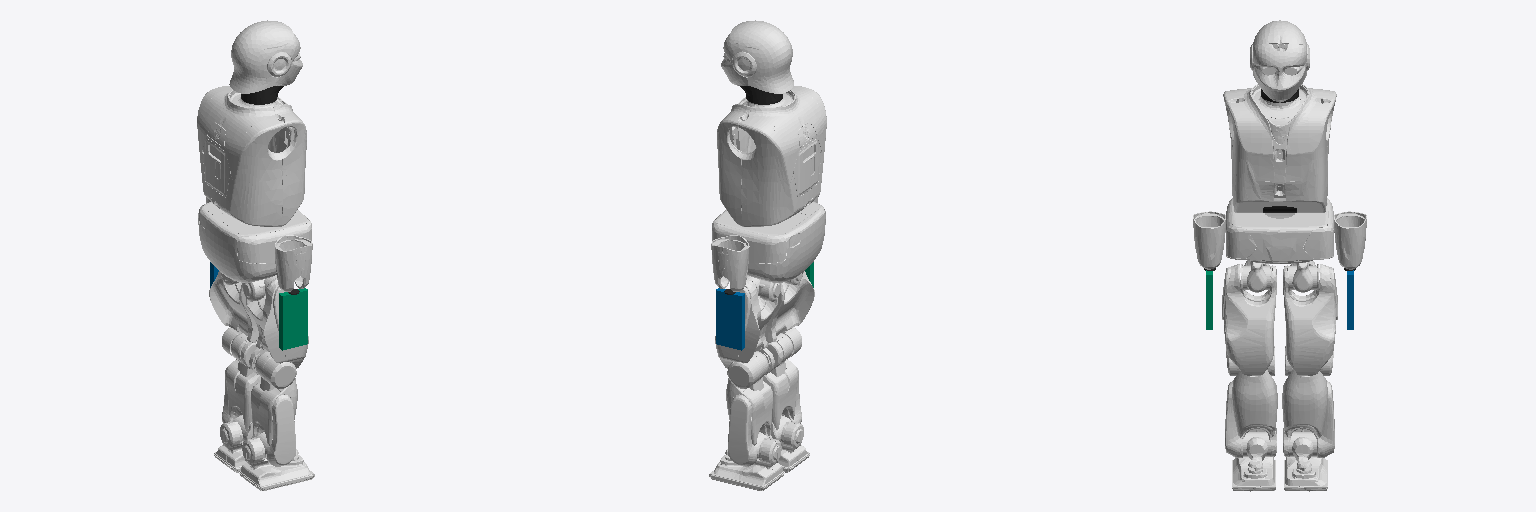
--- Facts derived from the render (not from the file) ---
Views: 3 orthographic renders of the robot side by side, from view 1: azimuth 30°, elevation 25°; view 2: azimuth 150°, elevation 25°; view 3: azimuth 270°, elevation 25°.
Model reemc with 54 links and 53 joints (30 revolute, 22 fixed, 1 floating), rooted at world, posed every joint at zero.
Links seen in each view (by area): view 1: torso_2_link, base_link, head_2_link, leg_right_4_link, leg_right_3_link, leg_left_3_link, leg_right_6_link, leg_left_4_link, arm_right_5_link, hand_right_palm_link, leg_left_6_link; view 2: torso_2_link, base_link, head_2_link, leg_left_4_link, leg_left_3_link, leg_right_3_link, leg_left_6_link, leg_right_4_link, arm_left_5_link, hand_left_palm_link, leg_right_6_link; view 3: torso_2_link, base_link, leg_right_3_link, leg_left_3_link, head_2_link, leg_right_4_link, leg_left_4_link, leg_right_6_link, leg_left_6_link, arm_right_5_link, arm_left_5_link, leg_left_1_link (+1 smaller).
Boxes of the visible links, x1,y1,x2,y2 form: torso_2_link: (197, 86, 306, 226); base_link: (198, 202, 311, 282); head_2_link: (229, 20, 302, 93); leg_right_4_link: (251, 351, 297, 466); leg_right_3_link: (246, 278, 308, 388); leg_left_3_link: (209, 263, 261, 368); leg_right_6_link: (239, 438, 314, 490); leg_left_4_link: (222, 333, 260, 439); arm_right_5_link: (274, 235, 312, 291); hand_right_palm_link: (279, 288, 307, 350); leg_left_6_link: (214, 422, 246, 472); torso_2_link: (717, 86, 826, 226); base_link: (712, 202, 825, 282); head_2_link: (721, 20, 793, 93); leg_left_4_link: (726, 351, 772, 466); leg_left_3_link: (715, 278, 777, 388); leg_right_3_link: (762, 271, 814, 368); leg_left_6_link: (709, 438, 784, 490); leg_right_4_link: (763, 333, 801, 439); arm_left_5_link: (711, 235, 749, 291); hand_left_palm_link: (716, 288, 744, 350); leg_right_6_link: (778, 422, 809, 472); torso_2_link: (1223, 84, 1336, 212); base_link: (1226, 198, 1333, 263); leg_right_3_link: (1222, 264, 1276, 375); leg_left_3_link: (1283, 264, 1337, 375); head_2_link: (1250, 20, 1309, 102); leg_right_4_link: (1225, 370, 1277, 457); leg_left_4_link: (1282, 370, 1334, 457); leg_right_6_link: (1232, 429, 1275, 491); leg_left_6_link: (1284, 429, 1327, 491); arm_right_5_link: (1193, 211, 1225, 269); arm_left_5_link: (1334, 211, 1366, 269); leg_left_1_link: (1290, 261, 1315, 292).
Bounding box of the posed robot: 0.3366 × 0.5684 × 1.64 m (x, y, z).
14 mesh visuals loaded from 14 distinct referenced files (9 Collada DAE); not drawn: 10 (reference not matched to a file when rendering).

robot.urdf — reemc:
<?xml version="1.0" ?>
<!-- =================================================================================== -->
<!-- |    This document was autogenerated by xacro from [local-path]/advr-superbuild/robots/reemc_robot/tutorial_iros2018/robots/reemc/robots/reemc.urdf.xacro | -->
<!-- |    EDITING THIS FILE BY HAND IS NOT RECOMMENDED                                 | -->
<!-- =================================================================================== -->
<!--

  Copyright (c) 2014, PAL Robotics, S.L.
  All rights reserved.

  This work is licensed under the Creative Commons Attribution-NonCommercial-NoDerivs 3.0 Unported License.
  To view a copy of this license, visit http://creativecommons.org/licenses/by-nc-nd/3.0/ or send a letter to
  Creative Commons, 444 Castro Street, Suite 900, Mountain View, California, 94041, USA.
-->
<robot name="reemc" xmlns:controller="http://playerstage.sourceforge.net/gazebo/xmlschema/#controller" xmlns:interface="http://playerstage.sourceforge.net/gazebo/xmlschema/#interface" xmlns:sensor="http://playerstage.sourceforge.net/gazebo/xmlschema/#sensor" xmlns:xacro="http://www.ros.org/wiki/xacro">
  <link name="base_link">
    <inertial>
      <mass value="12.3221"/>
      <origin rpy="0 0 0" xyz="-0.01209 -0.00442 0.02145"/>
      <inertia ixx="0.03408839175" ixy="0.00000898087" ixz="0.00238269732" iyy="0.03351929137" iyz="0.00049460232" izz="0.04506059363"/>
    </inertial>
    <visual>
      <origin rpy="0 0 0" xyz="0 0 0"/>
      <geometry>
        <mesh filename="package://tutorial_iros2018/robots/reemc/meshes/base/base.dae"/>
      </geometry>
      <material name="LightGrey"/>
    </visual>
    <collision>
      <origin rpy="0 0 0" xyz="-0.022 0 0.01"/>
      <geometry>
        <box size="0.3 0.35 0.14"/>
      </geometry>
    </collision>
  </link>

  <link name="world"/>
  <joint name="reference" type="floating">
    <parent link="world"/>
    <child link="base_link"/>
  </joint>

  <!-- TODO: Update dynamic models -->
  <!-- TODO: Update dynamic models -->
  <gazebo reference="imu_link">
    <!-- this is expected to be reparented to pelvis with appropriate offset
         when imu_link is reduced by fixed joint reduction -->
    <!-- todo: this is working with gazebo 1.4, need to write a unit test -->
    <sensor name="imu_sensor" type="imu">
      <always_on>1</always_on>
      <update_rate>1000.0</update_rate>
      <imu>
        <noise>
          <type>gaussian</type>
          <!-- Noise parameters from Boston Dynamics
               (http://gazebosim.org/wiki/Sensor_noise):
                 rates (rad/s): mean=0, stddev=2e-4
                 accels (m/s/s): mean=0, stddev=1.7e-2
                 rate bias (rad/s): 5e-6 - 1e-5
                 accel bias (m/s/s): 1e-1
               Experimentally, simulation provide rates with noise of
               about 1e-3 rad/s and accels with noise of about 1e-1 m/s/s.
               So we don't expect to see the noise unless number of inner iterations
               are increased.

               We will add bias.  In this model, bias is sampled once for rates
               and once for accels at startup; the sign (negative or positive)
               of each bias is then switched with equal probability.  Thereafter,
               the biases are fixed additive offsets.  We choose
               bias means and stddevs to produce biases close to the provided
               data. -->
          <rate>
            <mean>0.0</mean>
            <stddev>2e-4</stddev>
            <bias_mean>0.0000075</bias_mean>
            <bias_stddev>0.0000008</bias_stddev>
          </rate>
          <accel>
            <mean>0.0</mean>
            <stddev>1.7e-2</stddev>
            <bias_mean>0.1</bias_mean>
            <bias_stddev>0.001</bias_stddev>
          </accel>
        </noise>
      </imu>
    </sensor>
  </gazebo>
  <gazebo reference="r_foot">
    <mu1>0.9</mu1>
    <mu2>0.9</mu2>
    <fdir1>1 0 0</fdir1>
    <maxVel>1.0</maxVel>
    <minDepth>0.003</minDepth>
  </gazebo>
  <gazebo reference="l_foot">
    <mu1>0.9</mu1>
    <mu2>0.9</mu2>
    <fdir1>1 0 0</fdir1>
    <maxVel>1.0</maxVel>
    <minDepth>0.003</minDepth>
  </gazebo>
  <material name="Blue">
    <color rgba="0.0 0.0 0.8 1.0"/>
  </material>
  <material name="Green">
    <color rgba="0.0 0.8 0.0 1.0"/>
  </material>
  <material name="Grey">
    <color rgba="0.7 0.7 0.7 1.0"/>
  </material>
  <material name="LightGrey">
    <color rgba="0.9 0.9 0.9 1.0"/>
  </material>
  <material name="DarkGrey">
    <color rgba="0.2 0.2 0.2 1.0"/>
  </material>
  <material name="Red">
    <color rgba="0.8 0.0 0.0 1.0"/>
  </material>
  <material name="White">
    <color rgba="1.0 1.0 1.0 1.0"/>
  </material>
  <!-- Now we can start using the macros included above to define the actual robot -->
  <!-- The reflect parameter takes the value 1 or -1 to respectively distinguish right from left side in expressions -->
  <link name="leg_right_1_link">
    <inertial>
      <mass value="1.02901"/>
      <origin rpy="0 0 0" xyz="-0.02571 0 0.02557"/>
      <inertia ixx="0.00132187534" ixy="0.00000001514" ixz="0.00040022268" iyy="0.0018528617" iyz="0.00000050713" izz="0.00084231334"/>
    </inertial>
    <visual>
      <origin rpy="0 0 0" xyz="0 0 0"/>
      <geometry>
        <mesh filename="package://tutorial_iros2018/robots/reemc/meshes/leg/leg_1.dae" scale="1 1 1"/>
      </geometry>
      <material name="LightGrey"/>
    </visual>
  </link>
  <joint name="leg_right_1_joint" type="revolute">
    <origin rpy="0 0 0" xyz="0  -0.075 -0.14353"/>
    <axis xyz="0 0 1"/>
    <parent link="base_link"/>
    <child link="leg_right_1_link"/>
    <dynamics damping="1.0" friction="1.0"/>
    <limit effort="42.7" lower="-0.523598775598" upper="0.785398163397" velocity="2.35"/>
    <safety_controller k_position="100" k_velocity="100" soft_lower_limit="-0.523598775598" soft_upper_limit="0.785398163397"/>
  </joint>
  <link name="leg_right_2_link">
    <inertial>
      <mass value="0.69621"/>
      <origin rpy="0.0 0.0 0.0" xyz="0.00057 -0.00881 -0.01125"/>
      <inertia ixx="0.0008416476" ixy="-0.00000268743" ixz="0.00000667199" iyy="0.00039794844" iyz="0.00002668971" izz="0.00084196694"/>
    </inertial>
    <visual>
      <origin rpy="1.57079632679 0 0" xyz="0 0 0"/>
      <geometry>
        <cylinder length="0.10" radius="0.04"/>
      </geometry>
      <material name="LightGrey"/>
    </visual>
  </link>
  <joint name="leg_right_2_joint" type="revolute">
    <origin rpy="0 1.57079632679 0" xyz="0 0 0.0"/>
    <axis xyz="0 0 1"/>
    <parent link="leg_right_1_link"/>
    <child link="leg_right_2_link"/>
    <dynamics damping="1.0" friction="1.0"/>
    <limit effort="64.0" lower="-0.523598775598" upper="0.261799387799" velocity="2.27"/>
    <safety_controller k_position="100" k_velocity="100" soft_lower_limit="-0.523598775598" soft_upper_limit="0.261799387799"/>
  </joint>
  <link name="leg_right_3_link">
    <inertial>
      <mass value="3.97852"/>
      <origin rpy="0.0 0 0.0" xyz="0.14784 -0.01646 -0.01793"/>
      <inertia ixx="0.00507885174" ixy="-0.00034076421" ixz="-0.00225952731" iyy="0.02850097402" iyz="0.00003047874" izz="0.02632392239"/>
    </inertial>
    <visual>
      <origin rpy="0 0 0" xyz="0 0 0"/>
      <geometry>
        <mesh filename="package://tutorial_iros2018/robots/reemc/meshes/leg/leg_3.dae" scale="1 1 -1.0"/>
      </geometry>
      <material name="LightGrey"/>
    </visual>
    <collision>
      <origin rpy="0 1.57079632679 0" xyz="0.15 0 -0.015"/>
      <geometry>
        <box size="0.15 0.10 0.20"/>
      </geometry>
    </collision>
  </link>
  <joint name="leg_right_3_joint" type="revolute">
    <origin rpy="-1.57079632679 0 0" xyz="0 0 0.0"/>
    <axis xyz="0 0 1"/>
    <parent link="leg_right_2_link"/>
    <child link="leg_right_3_link"/>
    <dynamics damping="1.0" friction="1.0"/>
    <limit effort="55.7" lower="-1.74532925199" upper="0.785398163397" velocity="3.64"/>
    <safety_controller k_position="100" k_velocity="100" soft_lower_limit="-1.74532925199" soft_upper_limit="0.785398163397"/>
  </joint>
  <link name="leg_right_4_link">
    <inertial>
      <mass value="2.86055"/>
      <origin rpy="0.0 0.0 0.0" xyz="0.14618 -0.0022 -0.02189"/>
      <inertia ixx="0.00361006492" ixy="0.00012218208" ixz="0.00160208242" iyy="0.02470649045" iyz="0.00008129755" izz="0.02272322206"/>
    </inertial>
    <visual>
      <origin rpy="0 0 0" xyz="0 0 0"/>
      <geometry>
        <mesh filename="package://tutorial_iros2018/robots/reemc/meshes/leg/leg_4.dae" scale="1 1 -1.0"/>
      </geometry>
      <material name="LightGrey"/>
    </visual>
    <collision>
      <origin rpy="0 -1.57079632679 0" xyz="0.15 0 -0.015"/>
      <geometry>
        <box size="0.15 0.10 0.20"/>
      </geometry>
    </collision>
  </link>
  <joint name="leg_right_4_joint" type="revolute">
    <origin rpy="0 0 0" xyz="0.300 0 0.0"/>
    <axis xyz="0 0 1"/>
    <parent link="leg_right_3_link"/>
    <child link="leg_right_4_link"/>
    <dynamics damping="0.1" friction="0"/>
    <dynamics damping="1.0" friction="1.0"/>
    <limit effort="138.3" lower="0.0" upper="2.61799387799" velocity="3.225"/>
    <safety_controller k_position="100" k_velocity="100" soft_lower_limit="0.0" soft_upper_limit="2.61799387799"/>
  </joint>
  <link name="leg_right_5_link">
    <inertial>
      <mass value="0.68213"/>
      <origin rpy="0.0 0.0 0.0" xyz="-0.00028 0.01119 -0.00859"/>
      <inertia ixx="0.00082035023" ixy="0.00000048534" ixz="0.00000226301" iyy="0.00082074105" iyz="-0.00002892247" izz="0.00037614067"/>
    </inertial>
    <visual>
      <origin rpy="0 0 0" xyz="0 0 0"/>
      <geometry>
        <cylinder length="0.104" radius="0.04"/>
      </geometry>
      <material name="LightGrey"/>
    </visual>
  </link>
  <joint name="leg_right_5_joint" type="revolute">
    <origin rpy="0 0 0" xyz="0.30 0 0.0"/>
    <axis xyz="0 0 1"/>
    <parent link="leg_right_4_link"/>
    <child link="leg_right_5_link"/>
    <dynamics damping="1.0" friction="1.0"/>
    <limit effort="80.9" lower="-1.308996939" upper="0.785398163397" velocity="2.44"/>
    <safety_controller k_position="100" k_velocity="100" soft_lower_limit="-1.308996939" soft_upper_limit="0.785398163397"/>
  </joint>
  <link name="leg_right_6_link">
    <inertial>
      <mass value="2.00843"/>
      <origin rpy="0.0 0.0 0.0" xyz="0.06111 -0.00336 -0.00497"/>
      <inertia ixx="0.00366502559" ixy="0.00020479295" ixz="0.00112439297" iyy="0.00532618026" iyz="0.00012133755" izz="0.00353091463"/>
    </inertial>
    <visual>
      <origin rpy="0 0 0" xyz="0 0 0"/>
      <geometry>
        <mesh filename="package://tutorial_iros2018/robots/reemc/meshes/leg/leg_6.dae" scale="1 -1.0 1"/>
      </geometry>
      <material name="LightGrey"/>
    </visual>
    <collision>
      <origin rpy="0 0 0" xyz="0.1 -0.01 0.025 "/>
      <geometry>
        <box size="0.03 0.14 0.210"/>
      </geometry>
    </collision>
  </link>
  <joint name="leg_right_6_joint" type="revolute">
    <origin rpy="1.57079632679 0 0" xyz="0 0 0"/>
    <axis xyz="0 0 1"/>
    <parent link="leg_right_5_link"/>
    <child link="leg_right_6_link"/>
    <dynamics damping="1.0" friction="1.0"/>
    <limit effort="64.0" lower="-0.261799387799" upper="0.523598775598" velocity="2.27"/>
    <safety_controller k_position="100" k_velocity="100" soft_lower_limit="-0.261799387799" soft_upper_limit="0.523598775598"/>
  </joint>
  <link name="right_sole_link">
    <inertial>
      <mass value="0.001"/>
      <origin rpy="0 0 0" xyz="0 0 0"/>
      <inertia ixx="0.0" ixy="0.0" ixz="0.0" iyy="0.0" iyz="0.0" izz="0.0"/>
    </inertial>
  </link>
  <joint name="right_sole_joint" type="fixed">
    <!-- origin x taken from link_${side}_6_link/visual/origin/x above -->
    <origin rpy="0.0 -1.57079632679 0.0" xyz="0.117 0.0 0.0"/>
    <axis xyz="0 0 1"/>
    <parent link="leg_right_6_link"/>
    <child link="right_sole_link"/>
    <dynamics damping="1.0" friction="1.0"/>
    <limit effort="60" lower="0.0" upper="0.0" velocity="0"/>
  </joint>
  <gazebo reference="leg_right_1_link">
    <mu1>0.9</mu1>
    <mu2>0.9</mu2>
  </gazebo>
  <gazebo reference="leg_right_2_link">
    <mu1>0.9</mu1>
    <mu2>0.9</mu2>
  </gazebo>
  <gazebo reference="leg_right_3_link">
    <mu1>0.9</mu1>
    <mu2>0.9</mu2>
  </gazebo>
  <gazebo reference="leg_right_4_link">
    <mu1>0.9</mu1>
    <mu2>0.9</mu2>
  </gazebo>
  <gazebo reference="leg_right_5_link">
    <mu1>0.9</mu1>
    <mu2>0.9</mu2>
  </gazebo>
  <!-- contact model for foot surface -->
  <gazebo reference="leg_right_6_link">
    <kp>1000000.0</kp>
    <kd>100.0</kd>
    <mu1>1.0</mu1>
    <mu2>1.0</mu2>
    <fdir1>0 0 1</fdir1>
    <maxVel>1.0</maxVel>
    <minDepth>0.00</minDepth>
    <implicitSpringDamper>1</implicitSpringDamper>
  </gazebo>
  <!--force torque sensor -->
  <!--xacro:reemc_force_torque_sensor name="leg_${side}_6_link"  update_rate="100.0"/-->
  <gazebo reference="leg_right_1_joint">
    <implicitSpringDamper>1</implicitSpringDamper>
  </gazebo>
  <gazebo reference="leg_right_2_joint">
    <implicitSpringDamper>1</implicitSpringDamper>
  </gazebo>
  <gazebo reference="leg_right_3_joint">
    <implicitSpringDamper>1</implicitSpringDamper>
  </gazebo>
  <gazebo reference="leg_right_4_joint">
    <implicitSpringDamper>1</implicitSpringDamper>
  </gazebo>
  <gazebo reference="leg_right_5_joint">
    <implicitSpringDamper>1</implicitSpringDamper>
  </gazebo>
  <gazebo reference="leg_right_6_joint">
    <implicitSpringDamper>1</implicitSpringDamper>
    <provideFeedback>1</provideFeedback>
  </gazebo>
  <link name="right_laser_link">
    <inertial>
      <origin rpy="0 0 0" xyz="0.0 0.0 0.0"/>
      <mass value="0.001"/>
      <inertia ixx="3.7174E-05" ixy="4.9927E-08" ixz="1.1015E-05" iyy="4.2412E-05" iyz="-9.8165E-09" izz="4.167E-05"/>
    </inertial>
    <!--    <visual>
         <origin xyz="0.0 0 0.05" rpy="0 0 ${90.0*deg_to_rad}" />
        <geometry>
          <mesh filename="package://tutorial_iros2018/robots/reemc/meshes/sensors/urg-04lx-ug01.stl" scale="0.001 0.001 0.001"/>
        </geometry>
      <material name="DarkGrey" />
      </visual>
  -->
  </link>
  <joint name="right_laser_joint" type="fixed">
    <axis xyz="0 1 0"/>
    <origin rpy="0.0 0.0 -0.523598775598" xyz="0.085 -0.01 0.073"/>
    <parent link="right_sole_link"/>
    <child link="right_laser_link"/>
    <dynamics damping="1" friction="1.0"/>
    <limit effort="60" lower="0" upper="0" velocity="20"/>
  </joint>
  <link name="leg_left_1_link">
    <inertial>
      <mass value="1.02901"/>
      <origin rpy="0 0 0" xyz="-0.02571 0 0.02557"/>
      <inertia ixx="0.00132187534" ixy="0.00000001514" ixz="0.00040022268" iyy="0.0018528617" iyz="0.00000050713" izz="0.00084231334"/>
    </inertial>
    <visual>
      <origin rpy="0 0 0" xyz="0 0 0"/>
      <geometry>
        <mesh filename="package://tutorial_iros2018/robots/reemc/meshes/leg/leg_1.dae" scale="1 1 1"/>
      </geometry>
      <material name="LightGrey"/>
    </visual>
  </link>
  <joint name="leg_left_1_joint" type="revolute">
    <origin rpy="0 0 0" xyz="0  0.075 -0.14353"/>
    <axis xyz="0 0 1"/>
    <parent link="base_link"/>
    <child link="leg_left_1_link"/>
    <dynamics damping="1.0" friction="1.0"/>
    <limit effort="42.7" lower="-0.785398163397" upper="0.523598775598" velocity="2.35"/>
    <safety_controller k_position="100" k_velocity="100" soft_lower_limit="-0.785398163397" soft_upper_limit="0.523598775598"/>
  </joint>
  <link name="leg_left_2_link">
    <inertial>
      <mass value="0.69621"/>
      <origin rpy="0.0 0.0 0.0" xyz="0.00057 0.00881 -0.01125"/>
      <inertia ixx="0.0008416476" ixy="-0.00000268743" ixz="0.00000667199" iyy="0.00039794844" iyz="0.00002668971" izz="0.00084196694"/>
    </inertial>
    <visual>
      <origin rpy="1.57079632679 0 0" xyz="0 0 0"/>
      <geometry>
        <cylinder length="0.10" radius="0.04"/>
      </geometry>
      <material name="LightGrey"/>
    </visual>
  </link>
  <joint name="leg_left_2_joint" type="revolute">
    <origin rpy="0 1.57079632679 0" xyz="0 0 0.0"/>
    <axis xyz="0 0 1"/>
    <parent link="leg_left_1_link"/>
    <child link="leg_left_2_link"/>
    <dynamics damping="1.0" friction="1.0"/>
    <limit effort="64.0" lower="-0.261799387799" upper="0.523598775598" velocity="2.27"/>
    <safety_controller k_position="100" k_velocity="100" soft_lower_limit="-0.261799387799" soft_upper_limit="0.523598775598"/>
  </joint>
  <link name="leg_left_3_link">
    <inertial>
      <mass value="3.97852"/>
      <origin rpy="0.0 0 0.0" xyz="0.14784 -0.01646 0.01793"/>
      <inertia ixx="0.00507885174" ixy="-0.00034076421" ixz="-0.00225952731" iyy="0.02850097402" iyz="0.00003047874" izz="0.02632392239"/>
    </inertial>
    <visual>
      <origin rpy="0 0 0" xyz="0 0 0"/>
      <geometry>
        <mesh filename="package://tutorial_iros2018/robots/reemc/meshes/leg/leg_3.dae" scale="1 1 1.0"/>
      </geometry>
      <material name="LightGrey"/>
    </visual>
    <collision>
      <origin rpy="0 1.57079632679 0" xyz="0.15 0 0.015"/>
      <geometry>
        <box size="0.15 0.10 0.20"/>
      </geometry>
    </collision>
  </link>
  <joint name="leg_left_3_joint" type="revolute">
    <origin rpy="-1.57079632679 0 0" xyz="0 0 0.0"/>
    <axis xyz="0 0 1"/>
    <parent link="leg_left_2_link"/>
    <child link="leg_left_3_link"/>
    <dynamics damping="1.0" friction="1.0"/>
    <limit effort="55.7" lower="-1.74532925199" upper="0.785398163397" velocity="3.64"/>
    <safety_controller k_position="100" k_velocity="100" soft_lower_limit="-1.74532925199" soft_upper_limit="0.785398163397"/>
  </joint>
  <link name="leg_left_4_link">
    <inertial>
      <mass value="2.86055"/>
      <origin rpy="0.0 0.0 0.0" xyz="0.14618 -0.0022 0.02189"/>
      <inertia ixx="0.00361006492" ixy="0.00012218208" ixz="0.00160208242" iyy="0.02470649045" iyz="0.00008129755" izz="0.02272322206"/>
    </inertial>
    <visual>
      <origin rpy="0 0 0" xyz="0 0 0"/>
      <geometry>
        <mesh filename="package://tutorial_iros2018/robots/reemc/meshes/leg/leg_4.dae" scale="1 1 1.0"/>
      </geometry>
      <material name="LightGrey"/>
    </visual>
    <collision>
      <origin rpy="0 1.57079632679 0" xyz="0.15 0 0.015"/>
      <geometry>
        <box size="0.15 0.10 0.20"/>
      </geometry>
    </collision>
  </link>
  <joint name="leg_left_4_joint" type="revolute">
    <origin rpy="0 0 0" xyz="0.300 0 0.0"/>
    <axis xyz="0 0 1"/>
    <parent link="leg_left_3_link"/>
    <child link="leg_left_4_link"/>
    <dynamics damping="0.1" friction="0"/>
    <dynamics damping="1.0" friction="1.0"/>
    <limit effort="138.3" lower="0.0" upper="2.61799387799" velocity="3.225"/>
    <safety_controller k_position="100" k_velocity="100" soft_lower_limit="0.0" soft_upper_limit="2.61799387799"/>
  </joint>
  <link name="leg_left_5_link">
    <inertial>
      <mass value="0.68213"/>
      <origin rpy="0.0 0.0 0.0" xyz="-0.00028 0.01119 0.00859"/>
      <inertia ixx="0.00082035023" ixy="0.00000048534" ixz="0.00000226301" iyy="0.00082074105" iyz="-0.00002892247" izz="0.00037614067"/>
    </inertial>
    <visual>
      <origin rpy="0 0 0" xyz="0 0 0"/>
      <geometry>
        <cylinder length="0.104" radius="0.04"/>
      </geometry>
      <material name="LightGrey"/>
    </visual>
  </link>
  <joint name="leg_left_5_joint" type="revolute">
    <origin rpy="0 0 0" xyz="0.30 0 0.0"/>
    <axis xyz="0 0 1"/>
    <parent link="leg_left_4_link"/>
    <child link="leg_left_5_link"/>
    <dynamics damping="1.0" friction="1.0"/>
    <limit effort="80.9" lower="-1.308996939" upper="0.785398163397" velocity="2.44"/>
    <safety_controller k_position="100" k_velocity="100" soft_lower_limit="-1.308996939" soft_upper_limit="0.785398163397"/>
  </joint>
  <link name="leg_left_6_link">
    <inertial>
      <mass value="2.00843"/>
      <origin rpy="0.0 0.0 0.0" xyz="0.06111 0.00336 -0.00497"/>
      <inertia ixx="0.00366502559" ixy="0.00020479295" ixz="0.00112439297" iyy="0.00532618026" iyz="0.00012133755" izz="0.00353091463"/>
    </inertial>
    <visual>
      <origin rpy="0 0 0" xyz="0 0 0"/>
      <geometry>
        <mesh filename="package://tutorial_iros2018/robots/reemc/meshes/leg/leg_6.dae" scale="1 1.0 1"/>
      </geometry>
      <material name="LightGrey"/>
    </visual>
    <collision>
      <origin rpy="0 0 0" xyz="0.1 0.01 0.025 "/>
      <geometry>
        <box size="0.03 0.14 0.210"/>
      </geometry>
    </collision>
  </link>
  <joint name="leg_left_6_joint" type="revolute">
    <origin rpy="1.57079632679 0 0" xyz="0 0 0"/>
    <axis xyz="0 0 1"/>
    <parent link="leg_left_5_link"/>
    <child link="leg_left_6_link"/>
    <dynamics damping="1.0" friction="1.0"/>
    <limit effort="64.0" lower="-0.523598775598" upper="0.261799387799" velocity="2.27"/>
    <safety_controller k_position="100" k_velocity="100" soft_lower_limit="-0.523598775598" soft_upper_limit="0.261799387799"/>
  </joint>
  <link name="left_sole_link">
    <inertial>
      <mass value="0.001"/>
      <origin rpy="0 0 0" xyz="0 0 0"/>
      <inertia ixx="0.0" ixy="0.0" ixz="0.0" iyy="0.0" iyz="0.0" izz="0.0"/>
    </inertial>
  </link>
  <joint name="left_sole_joint" type="fixed">
    <!-- origin x taken from link_${side}_6_link/visual/origin/x above -->
    <origin rpy="0.0 -1.57079632679 0.0" xyz="0.117 0.0 0.0"/>
    <axis xyz="0 0 1"/>
    <parent link="leg_left_6_link"/>
    <child link="left_sole_link"/>
    <dynamics damping="1.0" friction="1.0"/>
    <limit effort="60" lower="0.0" upper="0.0" velocity="0"/>
  </joint>
  <gazebo reference="leg_left_1_link">
    <mu1>0.9</mu1>
    <mu2>0.9</mu2>
  </gazebo>
  <gazebo reference="leg_left_2_link">
    <mu1>0.9</mu1>
    <mu2>0.9</mu2>
  </gazebo>
  <gazebo reference="leg_left_3_link">
    <mu1>0.9</mu1>
    <mu2>0.9</mu2>
  </gazebo>
  <gazebo reference="leg_left_4_link">
    <mu1>0.9</mu1>
    <mu2>0.9</mu2>
  </gazebo>
  <gazebo reference="leg_left_5_link">
    <mu1>0.9</mu1>
    <mu2>0.9</mu2>
  </gazebo>
  <!-- contact model for foot surface -->
  <gazebo reference="leg_left_6_link">
    <kp>1000000.0</kp>
    <kd>100.0</kd>
    <mu1>1.0</mu1>
    <mu2>1.0</mu2>
    <fdir1>0 0 1</fdir1>
    <maxVel>1.0</maxVel>
    <minDepth>0.00</minDepth>
    <implicitSpringDamper>1</implicitSpringDamper>
  </gazebo>
  <!--force torque sensor -->
  <!--xacro:reemc_force_torque_sensor name="leg_${side}_6_link"  update_rate="100.0"/-->
  <gazebo reference="leg_left_1_joint">
    <implicitSpringDamper>1</implicitSpringDamper>
  </gazebo>
  <gazebo reference="leg_left_2_joint">
    <implicitSpringDamper>1</implicitSpringDamper>
  </gazebo>
  <gazebo reference="leg_left_3_joint">
    <implicitSpringDamper>1</implicitSpringDamper>
  </gazebo>
  <gazebo reference="leg_left_4_joint">
    <implicitSpringDamper>1</implicitSpringDamper>
  </gazebo>
  <gazebo reference="leg_left_5_joint">
    <implicitSpringDamper>1</implicitSpringDamper>
  </gazebo>
  <gazebo reference="leg_left_6_joint">
    <implicitSpringDamper>1</implicitSpringDamper>
    <provideFeedback>1</provideFeedback>
  </gazebo>
  <link name="left_laser_link">
    <inertial>
      <origin rpy="0 0 0" xyz="0.0 0.0 0.0"/>
      <mass value="0.001"/>
      <inertia ixx="3.7174E-05" ixy="4.9927E-08" ixz="1.1015E-05" iyy="4.2412E-05" iyz="-9.8165E-09" izz="4.167E-05"/>
    </inertial>
    <!--    <visual>
         <origin xyz="0.0 0 0.05" rpy="0 0 ${90.0*deg_to_rad}" />
        <geometry>
          <mesh filename="package://tutorial_iros2018/robots/reemc/meshes/sensors/urg-04lx-ug01.stl" scale="0.001 0.001 0.001"/>
        </geometry>
      <material name="DarkGrey" />
      </visual>
  -->
  </link>
  <joint name="left_laser_joint" type="fixed">
    <axis xyz="0 1 0"/>
    <origin rpy="0.0 0.0 0.523598775598" xyz="0.085 0.01 0.073"/>
    <parent link="left_sole_link"/>
    <child link="left_laser_link"/>
    <dynamics damping="1" friction="1.0"/>
    <limit effort="60" lower="0" upper="0" velocity="20"/>
  </joint>
  <!--************************-->
  <!--        TORSO_1         -->
  <!--************************-->
  <link name="torso_1_link">
    <inertial>
      <origin rpy="0 0 0" xyz="-0.00011 -0.00002 -0.00669"/>
      <mass value="1.58341"/>
      <!-- NOTE: Assuming cylinder with length="0.295" radius="0.0465-->
      <inertia ixx="0.0036591855" ixy="0.00000036753" ixz="0.00000297759" iyy="0.00115955355" iyz="0.00000024742" izz="0.00360440105"/>
    </inertial>
    <visual>
      <origin rpy="1.57079632679 0 0" xyz="0 0 0"/>
      <geometry>
        <cylinder length="0.15" radius="0.0465"/>
      </geometry>
      <material name="DarkGrey"/>
    </visual>
  </link>
  <joint name="torso_1_joint" type="revolute">
    <parent link="base_link"/>
    <child link="torso_1_link"/>
    <origin rpy="0 0 0" xyz="0 0 0.14353"/>
    <axis xyz="0 0 1"/>
    <limit effort="78.0" lower="-1.308996939" upper="1.308996939" velocity="5.4"/>
    <dynamics damping="1.0" friction="1.0"/>
    <safety_controller k_position="20" k_velocity="20" soft_lower_limit="-1.288996939" soft_upper_limit="1.288996939"/>
  </joint>
  <!--************************-->
  <!--        TORSO_2         -->
  <!--************************-->
  <link name="torso_2_link">
    <inertial>
      <origin rpy="0 0 0" xyz="-0.01816 -0.17956 -0.00103"/>
      <mass value="11.18103"/>
      <!-- NOTE: Assuming box with d=0.2, w=0.295, h=0.254 -->
      <inertia ixx="0.159836691" ixy="-0.00377573015" ixz="0.00094280162" iyy="0.08484637595" iyz="0.00020220508" izz="0.13253975464"/>
    </inertial>
    <visual>
      <origin rpy="0 0 0" xyz="0 0 0"/>
      <geometry>
        <mesh filename="package://tutorial_iros2018/robots/reemc/meshes/torso/torso_2.dae"/>
      </geometry>
      <material name="LightGrey"/>
    </visual>
    <collision>
      <origin rpy="0 0 0" xyz="0 0 0"/>
      <geometry>
        <mesh filename="package://tutorial_iros2018/robots/reemc/meshes/torso/torso_2_collision.stl"/>
      </geometry>
    </collision>
  </link>
  <joint name="torso_2_joint" type="revolute">
    <parent link="torso_1_link"/>
    <child link="torso_2_link"/>
    <origin rpy="-1.57079632679 0 0" xyz="0 0 0"/>
    <axis xyz="0 0 1"/>
    <limit effort="78.0" lower="-0.261799387799" upper="0.785398163397" velocity="5.4"/>
    <dynamics damping="1.0" friction="1.0"/>
    <safety_controller k_position="20" k_velocity="20" soft_lower_limit="-0.241799387799" soft_upper_limit="0.765398163397"/>
  </joint>
  <gazebo reference="torso_1_link">
    <mu1>0.9</mu1>
    <mu2>0.9</mu2>
  </gazebo>
  <gazebo reference="torso_2_link">
    <mu1>0.9</mu1>
    <mu2>0.9</mu2>
  </gazebo>
  <gazebo reference="torso_1_joint">
    <implicitSpringDamper>1</implicitSpringDamper>
  </gazebo>
  <gazebo reference="torso_2_joint">
    <implicitSpringDamper>1</implicitSpringDamper>
    <provideFeedback>1</provideFeedback>
  </gazebo>
  <link name="torso_sonar_01_link">
    <inertial>
      <mass value="0.001"/>
      <origin rpy="0 0 0" xyz="0 0 0"/>
      <inertia ixx="0.0001" ixy="0" ixz="0" iyy="0.000001" iyz="0" izz="0.0001"/>
    </inertial>
  </link>
  <joint name="torso_sonar_01_joint" type="fixed">
    <origin rpy="0.0 0.0 0.349065850399" xyz="0.10 -0.029 0"/>
    <axis xyz="0 0 1"/>
    <parent link="torso_2_link"/>
    <child link="torso_sonar_01_link"/>
  </joint>
  <link name="torso_sonar_02_link">
    <inertial>
      <mass value="0.001"/>
      <origin rpy="0 0 0" xyz="0 0 0"/>
      <inertia ixx="0.0001" ixy="0" ixz="0" iyy="0.000001" iyz="0" izz="0.0001"/>
    </inertial>
  </link>
  <joint name="torso_sonar_02_joint" type="fixed">
    <origin rpy="0.0 0.0 0.0" xyz="0.15 -0.18 0"/>
    <axis xyz="0 0 1"/>
    <parent link="torso_2_link"/>
    <child link="torso_sonar_02_link"/>
  </joint>
  <link name="torso_sonar_04_link">
    <inertial>
      <mass value="0.001"/>
      <origin rpy="0 0 0" xyz="0 0 0"/>
      <inertia ixx="0.0001" ixy="0" ixz="0" iyy="0.000001" iyz="0" izz="0.0001"/>
    </inertial>
  </link>
  <joint name="torso_sonar_04_joint" type="fixed">
    <origin rpy="0.0 3.14159265359 0.0" xyz="-0.17 -0.029 0.0"/>
    <axis xyz="0 0 1"/>
    <parent link="torso_2_link"/>
    <child link="torso_sonar_04_link"/>
  </joint>
  <link name="head_1_link">
    <inertial>
      <origin rpy="0 0 0" xyz="0.01819 0.00248 -0.00517"/>
      <mass value="1.11967"/>
      <!-- NOTE: Assuming cylinder with r=0.06, h=0.08 -->
      <!--         <inertia ixx="0.0014125"  ixy="0"  ixz="0" iyy="0.0014125" iyz="0" izz="0.0017738" /> -->
      <inertia ixx="0.00111370229" ixy="0.00003992198" ixz="-0.00012464155" iyy="0.00111361487" iyz="0.00001943162" izz="0.00114794061"/>
    </inertial>
    <visual>
      <origin rpy="0 0 0" xyz="-0.03 0 0"/>
      <!--TODO: Remove offset when good meshes arrive-->
      <geometry>
        <mesh filename="package://tutorial_iros2018/robots/reemc/meshes/head/head_1.dae"/>
      </geometry>
      <material name="DarkGrey"/>
    </visual>
    <collision>
      <origin rpy="0 0 0" xyz="-0.03 0 0"/>
      <geometry>
        <mesh filename="package://tutorial_iros2018/robots/reemc/meshes/head/head_1_collision.stl"/>
      </geometry>
    </collision>
  </link>
  <joint name="head_1_joint" type="revolute">
    <parent link="torso_2_link"/>
    <child link="head_1_link"/>
    <origin rpy="1.57079632679 0 0" xyz="0.0 -0.42316 0"/>
    <axis xyz="0 0 1"/>
    <limit effort="3.4" lower="-1.308996939" upper="1.308996939" velocity="3.0"/>
    <dynamics damping="0.5" friction="1.0"/>
    <safety_controller k_position="20" k_velocity="20" soft_lower_limit="-1.288996939" soft_upper_limit="1.288996939"/>
  </joint>
  <gazebo reference="head_1_link">
    <mu1>0.9</mu1>
    <mu2>0.9</mu2>
  </gazebo>
  <gazebo reference="head_1_joint">
    <implicitSpringDamper>1</implicitSpringDamper>
  </gazebo>
  <link name="head_2_link">
    <inertial>
      <origin rpy="0 0 0" xyz="0.01183 -0.08098 0.00104"/>
      <mass value="1.63134"/>
      <!-- NOTE: Assuming box with d=0.28433, w=0.20302, h=0.26741 -->
      <!--         <inertia ixx="0.011353"  ixy="0"  ixz="0" iyy="0.012294" iyz="0" izz="0.015345" /> -->
      <!--NOTE: Low (0.1 or lower) diagonal inertia values make Gazebo 1.0.2 simulation unstable when head sensors are added.-->
      <inertia ixx="0.00640199093" ixy="0.00012197067" ixz="-0.00000897011" iyy="0.00676228591" iyz="-0.0000552329" izz="0.00614192438"/>
    </inertial>
    <visual>
      <origin rpy="0 0 0" xyz="-0.03 0 0"/>
      <!--TODO: Remove offset when good meshes arrive-->
      <geometry>
        <mesh filename="package://tutorial_iros2018/robots/reemc/meshes/head/head_2.dae"/>
      </geometry>
      <material name="LightGrey"/>
    </visual>
    <collision>
      <origin rpy="0 0 0" xyz="-0.03 0 0"/>
      <geometry>
        <mesh filename="package://tutorial_iros2018/robots/reemc/meshes/head/head_2_collision.stl"/>
      </geometry>
    </collision>
  </link>
  <joint name="head_2_joint" type="revolute">
    <parent link="head_1_link"/>
    <child link="head_2_link"/>
    <origin rpy="-1.57079632679 0 0" xyz="0.0445 0 0"/>
    <axis xyz="0 0 1"/>
    <limit effort="3.26" lower="-0.261799387799" upper="0.785398163397" velocity="3.0"/>
    <dynamics damping="0.5" friction="1.0"/>
    <safety_controller k_position="20" k_velocity="20" soft_lower_limit="-0.241799387799" soft_upper_limit="0.785398163397"/>
  </joint>
  <gazebo reference="head_2_link">
    <mu1>0.9</mu1>
    <mu2>0.9</mu2>
  </gazebo>
  <gazebo reference="head_2_joint">
    <implicitSpringDamper>1</implicitSpringDamper>
  </gazebo>
  <link name="head_sonar_03_link">
    <inertial>
      <mass value="0.001"/>
      <origin rpy="0 0 0" xyz="0 0 0"/>
      <inertia ixx="0.0001" ixy="0" ixz="0" iyy="0.000001" iyz="0" izz="0.0001"/>
    </inertial>
  </link>
  <joint name="head_sonar_03_joint" type="fixed">
    <origin rpy="1.57 0.0 0.0" xyz="0.11 -0.195 0.0"/>
    <axis xyz="0 0 1"/>
    <parent link="head_2_link"/>
    <child link="head_sonar_03_link"/>
  </joint>
  <!--************************-->
  <!--        SHOULDER        -->
  <!--************************-->
  <link name="arm_right_1_link">
    <inertial>
      <origin rpy="0 0 0" xyz="0.00701 -0.00011 0.18627"/>
      <mass value="1.53614"/>
      <!--        <inertia ixx="0"  ixy="0"  ixz="0" iyy="0" iyz="0" izz="0" /> -->
      <!--         NOTE: Assuming cylinder centered at CoM with r=0.05, h=0.05 with axis parallel to x coordinate -->
      <!--        <inertia ixx="0.0026850"  ixy="0"  ixz="0" iyy="0.0017900" iyz="0" izz="0.0017900" /> -->
      <inertia ixx="0.00327313329" ixy="-0.00000460054" ixz="-0.00025121368" iyy="0.00316047802" iyz="0.00000313158" izz="0.00157642528"/>
    </inertial>
    <visual>
      <origin rpy="0 0 0" xyz="0 0 0"/>
      <geometry>
        <mesh filename="package://tutorial_iros2018/robots/reemc/meshes/arm/arm_1.dae" scale="1 1 -1.0"/>
      </geometry>
      <material name="DarkGrey"/>
    </visual>
    <collision>
      <origin rpy="0 0 0" xyz="0 0 0"/>
      <geometry>
        <mesh filename="package://tutorial_iros2018/robots/reemc/meshes/arm/arm_1_collision.stl" scale="1 1 -1.0"/>
      </geometry>
    </collision>
  </link>
  <joint name="arm_right_1_joint" type="revolute">
    <parent link="torso_2_link"/>
    <child link="arm_right_1_link"/>
    <origin rpy="-2.87979326579 0 0" xyz="0 -0.31827 0"/>
    <axis xyz="0 0 1"/>
    <limit effort="44.64" lower="-0.785398163397" upper="3.14159265359" velocity="2.7"/>
    <dynamics damping="1.0" friction="1.0"/>
    <safety_controller k_position="20" k_velocity="20" soft_lower_limit="-0.765398163397" soft_upper_limit="3.12159265359"/>
  </joint>
  <link name="arm_right_2_link">
    <inertial>
      <origin rpy="0 0 0" xyz="0.01435 -0.06294 0.01039"/>
      <mass value="1.60393"/>
      <!--<inertia ixx="0"  ixy="0"  ixz="0" iyy="0" iyz="0" izz="0" />-->
      <!-- NOTE: Assuming cylinder centered at CoM with r=0.05, h=0.05 with axis parallel to y coordinate -->
      <!-- <inertia ixx="0.0013417"  ixy="0"  ixz="0" iyy="0.0020125" iyz="0" izz="0.0013417" /> -->
      <inertia ixx="0.0046195621" ixy="-0.00056769245" ixz="0.00018376961" iyy="0.00185384237" iyz="-0.00078286958" izz="0.0049356022"/>
    </inertial>
    <visual>
      <origin rpy="0 0 0" xyz="0 0 0"/>
      <geometry>
        <mesh filename="package://tutorial_iros2018/robots/reemc/meshes/arm/arm_2.dae" scale="1 1 -1.0"/>
      </geometry>
      <material name="DarkGrey"/>
    </visual>
    <collision>
      <origin rpy="0 0 0" xyz="0 0 0"/>
      <geometry>
        <mesh filename="package://tutorial_iros2018/robots/reemc/meshes/arm/arm_2_collision.stl" scale="1 1 -1.0"/>
      </geometry>
    </collision>
  </link>
  <joint name="arm_right_2_joint" type="revolute">
    <parent link="arm_right_1_link"/>
    <child link="arm_right_2_link"/>
    <origin rpy="-1.57079632679 -1.308996939 1.57079632679" xyz="0 0 0.21749"/>
    <axis xyz="0 0 1"/>
    <limit effort="22.32" lower="-0.261799387799" upper="2.09439510239" velocity="3.66"/>
    <dynamics damping="1.0" friction="1.0"/>
    <safety_controller k_position="20" k_velocity="20" soft_lower_limit="-0.241799387799" soft_upper_limit="2.07439510239"/>
  </joint>
  <link name="arm_right_3_link">
    <inertial>
      <origin rpy="0 0 0" xyz="0.00606 -0.0113 0.05748"/>
      <mass value="1.64293"/>
      <!--<inertia ixx="0"  ixy="0"  ixz="0" iyy="0" iyz="0" izz="0" />-->
      <!-- NOTE: Assuming cylinder centered at CoM with r=0.05, h=0.05 with axis parallel to x coordinate -->
      <inertia ixx="0.00372686652" ixy="-0.00008722874" ixz="-0.00028800176" iyy="0.00344463026" iyz="0.00042776588" izz="0.00192229026"/>
    </inertial>
    <visual>
      <origin rpy="0 0 0" xyz="0 0 0"/>
      <geometry>
        <mesh filename="package://tutorial_iros2018/robots/reemc/meshes/arm/arm_3.dae" scale="1 1 -1.0"/>
      </geometry>
      <material name="DarkGrey"/>
    </visual>
    <collision>
      <origin rpy="0 0 0" xyz="0 0 0"/>
      <geometry>
        <mesh filename="package://tutorial_iros2018/robots/reemc/meshes/arm/arm_3_collision.stl" scale="1 1 -1.0"/>
      </geometry>
    </collision>
  </link>
  <joint name="arm_right_3_joint" type="revolute">
    <parent link="arm_right_2_link"/>
    <child link="arm_right_3_link"/>
    <origin rpy="1.57079632679 0 0" xyz="0.02 -0.142 0"/>
    <axis xyz="0 0 1"/>
    <limit effort="17.86" lower="-2.35619449019" upper="2.74889357189" velocity="4.58"/>
    <dynamics damping="1.0" friction="1.0"/>
    <safety_controller k_position="20" k_velocity="20" soft_lower_limit="-2.33619449019" soft_upper_limit="2.72889357189"/>
  </joint>
  <!--************************-->
  <!--        ELBOW           -->
  <!--************************-->
  <link name="arm_right_4_link">
    <inertial>
      <origin rpy="0 0 0" xyz="-0.04129 0.0118 -0.01387"/>
      <mass value="1.20222"/>
      <!--<inertia ixx="0"  ixy="0"  ixz="0" iyy="0" iyz="0" izz="0" />-->
      <!-- NOTE: Assuming cylinder centered at CoM with r=0.05, h=0.05 with axis parallel to x coordinate -->
      <!-- <inertia ixx="0.0012663"  ixy="0"  ixz="0" iyy="0.00084417" iyz="0" izz="0.00084417" /> -->
      <inertia ixx="0.00156355749" ixy="-0.000353141" ixz="0.00053402452" iyy="0.00277186194" iyz="-0.00015541973" izz="0.00307369106"/>
    </inertial>
    <visual>
      <origin rpy="0 0 0" xyz="0 0 0"/>
      <geometry>
        <mesh filename="package://tutorial_iros2018/robots/reemc/meshes/arm/arm_4.dae" scale="1 1 -1.0"/>
      </geometry>
      <material name="DarkGrey"/>
    </visual>
    <collision>
      <origin rpy="0 0 0" xyz="0 0 0"/>
      <geometry>
        <mesh filename="package://tutorial_iros2018/robots/reemc/meshes/arm/arm_4_collision.stl" scale="1 1 -1.0"/>
      </geometry>
    </collision>
  </link>
  <joint name="arm_right_4_joint" type="revolute">
    <parent link="arm_right_3_link"/>
    <child link="arm_right_4_link"/>
    <origin rpy="0 1.57079632679 0" xyz="0 -0.02 0.088"/>
    <axis xyz="0 0 1"/>
    <limit effort="17.86" lower="0" upper="2.26892802759" velocity="4.58"/>
    <dynamics damping="1.0" friction="1.0"/>
    <safety_controller k_position="20" k_velocity="20" soft_lower_limit="0.0" soft_upper_limit="2.24892802759"/>
  </joint>
  <gazebo reference="arm_right_1_link">
    <mu1>0.9</mu1>
    <mu2>0.9</mu2>
  </gazebo>
  <gazebo reference="arm_right_2_link">
    <mu1>0.9</mu1>
    <mu2>0.9</mu2>
  </gazebo>
  <gazebo reference="arm_right_3_link">
    <mu1>0.9</mu1>
    <mu2>0.9</mu2>
  </gazebo>
  <gazebo reference="arm_right_4_link">
    <mu1>0.9</mu1>
    <mu2>0.9</mu2>
  </gazebo>
  <gazebo reference="arm_right_1_joint">
    <implicitSpringDamper>1</implicitSpringDamper>
  </gazebo>
  <gazebo reference="arm_right_2_joint">
    <implicitSpringDamper>1</implicitSpringDamper>
  </gazebo>
  <gazebo reference="arm_right_3_joint">
    <implicitSpringDamper>1</implicitSpringDamper>
  </gazebo>
  <gazebo reference="arm_right_4_joint">
    <implicitSpringDamper>1</implicitSpringDamper>
  </gazebo>
  <!--************************-->
  <!--        WRIST           -->
  <!--************************-->
  <link name="arm_right_5_link">
    <inertial>
      <origin rpy="0 0 0" xyz="-0.00044 0.00012 0.07445"/>
      <mass value="1.21524"/>
      <!-- <inertia ixx="0"  ixy="0"  ixz="0" iyy="0" iyz="0" izz="0" /> -->
      <!-- NOTE: Assuming cylinder centered at CoM with r=0.05, h=0.1 with axis parallel to z coordinate -->
      <!--         <inertia ixx="0.0027096"  ixy="0"  ixz="0" iyy="0.0027096" iyz="0" izz="0.0023225" /> -->
      <inertia ixx="0.00193499547" ixy="-0.00000027528" ixz="-0.00001268153" iyy="0.00177767506" iyz="-0.00000466638" izz="0.00057101196"/>
    </inertial>
    <visual>
      <origin rpy="0 0 0" xyz="0 0 0"/>
      <geometry>
        <mesh filename="package://tutorial_iros2018/robots/reemc/meshes/arm/arm_5.dae" scale="1 1 -1.0"/>
      </geometry>
      <material name="LightGrey"/>
    </visual>
    <collision>
      <origin rpy="0 0 0" xyz="0 0 0"/>
      <geometry>
        <mesh filename="package://tutorial_iros2018/robots/reemc/meshes/arm/arm_5_collision.stl" scale="1 1 -1.0"/>
      </geometry>
    </collision>
  </link>
  <joint name="arm_right_5_joint" type="revolute">
    <parent link="arm_right_4_link"/>
    <child link="arm_right_5_link"/>
    <origin rpy="0 -1.57079632679 0" xyz="-0.088 0.02 0"/>
    <axis xyz="0 0 1"/>
    <limit effort="3" lower="-2.09439510239" upper="2.09439510239" velocity="1.95"/>
    <!--TODO: Check effort value!-->
    <dynamics damping="1.0" friction="1.0"/>
    <safety_controller k_position="20" k_velocity="20" soft_lower_limit="-2.07439510239" soft_upper_limit="2.07439510239"/>
  </joint>
  <link name="arm_right_6_link">
    <inertial>
      <origin rpy="0 0 0" xyz="-0.00005 -0.00252 7e-05"/>
      <mass value="0.41597"/>
      <!-- <inertia ixx="0"  ixy="0"  ixz="0" iyy="0" iyz="0" izz="0" /> -->
      <!-- NOTE: Assuming cylinder centered at CoM with r=0.02, h=0.08 with axis parallel to z coordinate -->
      <!--         <inertia ixx="0.0001615"  ixy="0"  ixz="0" iyy="0.0001615" iyz="0" izz="0.000051" /> -->
      <inertia ixx="0.00020339659" ixy="-0.00000071703" ixz="-0.00000006654" iyy="0.00015240261" iyz="0.00000014315" izz="0.0001671881"/>
    </inertial>
    <visual>
      <origin rpy="0 0 0" xyz="0 0 0"/>
      <geometry>
        <mesh filename="package://tutorial_iros2018/robots/reemc/meshes/arm/arm_6.dae" scale="1 1 -1.0"/>
      </geometry>
      <material name="LightGrey"/>
    </visual>
    <collision>
      <origin rpy="0 0 0" xyz="0 0 0"/>
      <geometry>
        <cylinder length="0.0385" radius="0.04"/>
      </geometry>
    </collision>
  </link>
  <joint name="arm_right_6_joint" type="revolute">
    <parent link="arm_right_5_link"/>
    <child link="arm_right_6_link"/>
    <origin rpy="-1.57079632679 0 0" xyz="0 0 0.15"/>
    <axis xyz="0 0 1"/>
    <limit effort="6.6" lower="-1.57079632679" upper="1.57079632679" velocity="1.76"/>
    <dynamics damping="1.0" friction="1.0"/>
    <safety_controller k_position="20" k_velocity="20" soft_lower_limit="-1.55079632679" soft_upper_limit="1.55079632679"/>
  </joint>
  <link name="arm_right_7_link">
    <inertial>
      <!--TODO: Verify these inertial parameters-->
      <origin rpy="0 0 0" xyz="-0.00004 0 -0.02887"/>
      <mass value="0.06697"/>
      <!-- <inertia ixx="0"  ixy="0"  ixz="0" iyy="0" iyz="0" izz="0" /> -->
      <!-- NOTE: Assuming point mass -->
      <!--         <inertia ixx="0"  ixy="0"  ixz="0" iyy="0" iyz="0" izz="0" /> -->
      <inertia ixx="0.0000123718" ixy="0.00000000002" ixz="0.00000002403" iyy="0.00001242132" iyz="0.00000000001" izz="0.0000059514"/>
    </inertial>
    <visual>
      <origin rpy="0 0 0" xyz="0 0 0.046"/>
      <geometry>
        <cylinder length="0.005" radius="0.02"/>
      </geometry>
      <material name="DarkGrey"/>
    </visual>
    <collision>
      <origin rpy="0 0 0" xyz="0 0 0.0345"/>
      <geometry>
        <cylinder length="0.023" radius="0.02"/>
      </geometry>
    </collision>
  </link>
  <joint name="arm_right_7_joint" type="revolute">
    <parent link="arm_right_6_link"/>
    <child link="arm_right_7_link"/>
    <origin rpy="1.57079632679 0 0" xyz="0 0 0"/>
    <axis xyz="0 0 1"/>
    <limit effort="6.6" lower="-2.09439510239" upper="2.09439510239" velocity="1.76"/>
    <dynamics damping="1.0" friction="1.0"/>
    <safety_controller k_position="20" k_velocity="20" soft_lower_limit="-2.07439510239" soft_upper_limit="2.07439510239"/>
  </joint>
  <gazebo reference="arm_right_5_link">
    <mu1>0.9</mu1>
    <mu2>0.9</mu2>
  </gazebo>
  <gazebo reference="arm_right_6_link">
    <mu1>0.9</mu1>
    <mu2>0.9</mu2>
  </gazebo>
  <gazebo reference="arm_right_7_link">
    <mu1>0.9</mu1>
    <mu2>0.9</mu2>
  </gazebo>
  <gazebo reference="arm_right_5_joint">
    <implicitSpringDamper>1</implicitSpringDamper>
  </gazebo>
  <gazebo reference="arm_right_6_joint">
    <implicitSpringDamper>1</implicitSpringDamper>
  </gazebo>
  <gazebo reference="arm_right_7_joint">
    <implicitSpringDamper>1</implicitSpringDamper>
    <provideFeedback>1</provideFeedback>
  </gazebo>
  <!--***********************-->
  <!--        TOOL           -->
  <!--***********************-->
  <link name="arm_right_tool_link">
    <inertial>
      <mass value="0.1"/>
      <inertia ixx="0.0" ixy="0.0" ixz="0.0" iyy="0.0" iyz="0.0" izz="0.0"/>
    </inertial>
    <visual>
      <origin rpy="0 1.57079632679 0" xyz="0.001 0 0"/>
      <geometry>
        <cylinder length="0.005" radius="0.005"/>
      </geometry>
      <material name="LightGrey"/>
    </visual>
    <collision>
      <origin rpy="0 1.57079632679 0" xyz="0.001 0 0"/>
      <geometry>
        <cylinder length="0.005" radius="0.005"/>
      </geometry>
    </collision>
  </link>
  <joint name="arm_right_tool_joint" type="fixed">
    <parent link="arm_right_7_link"/>
    <child link="arm_right_tool_link"/>
    <origin rpy="1.57079632679 -1.57079632679 0" xyz="0 0 0.046"/>
  </joint>
  <!--************************-->
  <!--        SHOULDER        -->
  <!--************************-->
  <link name="arm_left_1_link">
    <inertial>
      <origin rpy="0 0 0" xyz="0.00701 -0.00011 -0.18627"/>
      <mass value="1.53614"/>
      <!--        <inertia ixx="0"  ixy="0"  ixz="0" iyy="0" iyz="0" izz="0" /> -->
      <!--         NOTE: Assuming cylinder centered at CoM with r=0.05, h=0.05 with axis parallel to x coordinate -->
      <!--        <inertia ixx="0.0026850"  ixy="0"  ixz="0" iyy="0.0017900" iyz="0" izz="0.0017900" /> -->
      <inertia ixx="0.00327313329" ixy="-0.00000460054" ixz="-0.00025121368" iyy="0.00316047802" iyz="0.00000313158" izz="0.00157642528"/>
    </inertial>
    <visual>
      <origin rpy="0 0 0" xyz="0 0 0"/>
      <geometry>
        <mesh filename="package://tutorial_iros2018/robots/reemc/meshes/arm/arm_1.dae" scale="1 1 1.0"/>
      </geometry>
      <material name="DarkGrey"/>
    </visual>
    <collision>
      <origin rpy="0 0 0" xyz="0 0 0"/>
      <geometry>
        <mesh filename="package://tutorial_iros2018/robots/reemc/meshes/arm/arm_1_collision.stl" scale="1 1 1.0"/>
      </geometry>
    </collision>
  </link>
  <joint name="arm_left_1_joint" type="revolute">
    <parent link="torso_2_link"/>
    <child link="arm_left_1_link"/>
    <origin rpy="2.87979326579 0 0" xyz="0 -0.31827 0"/>
    <axis xyz="0 0 1"/>
    <limit effort="44.64" lower="-0.785398163397" upper="3.14159265359" velocity="2.7"/>
    <dynamics damping="1.0" friction="1.0"/>
    <safety_controller k_position="20" k_velocity="20" soft_lower_limit="-0.765398163397" soft_upper_limit="3.12159265359"/>
  </joint>
  <link name="arm_left_2_link">
    <inertial>
      <origin rpy="0 0 0" xyz="0.01435 -0.06294 -0.01039"/>
      <mass value="1.60393"/>
      <!--<inertia ixx="0"  ixy="0"  ixz="0" iyy="0" iyz="0" izz="0" />-->
      <!-- NOTE: Assuming cylinder centered at CoM with r=0.05, h=0.05 with axis parallel to y coordinate -->
      <!-- <inertia ixx="0.0013417"  ixy="0"  ixz="0" iyy="0.0020125" iyz="0" izz="0.0013417" /> -->
      <inertia ixx="0.0046195621" ixy="-0.00056769245" ixz="0.00018376961" iyy="0.00185384237" iyz="-0.00078286958" izz="0.0049356022"/>
    </inertial>
    <visual>
      <origin rpy="0 0 0" xyz="0 0 0"/>
      <geometry>
        <mesh filename="package://tutorial_iros2018/robots/reemc/meshes/arm/arm_2.dae" scale="1 1 1.0"/>
      </geometry>
      <material name="DarkGrey"/>
    </visual>
    <collision>
      <origin rpy="0 0 0" xyz="0 0 0"/>
      <geometry>
        <mesh filename="package://tutorial_iros2018/robots/reemc/meshes/arm/arm_2_collision.stl" scale="1 1 1.0"/>
      </geometry>
    </collision>
  </link>
  <joint name="arm_left_2_joint" type="revolute">
    <parent link="arm_left_1_link"/>
    <child link="arm_left_2_link"/>
    <origin rpy="1.57079632679 1.308996939 1.57079632679" xyz="0 0 -0.21749"/>
    <axis xyz="0 0 1"/>
    <limit effort="22.32" lower="-0.261799387799" upper="2.09439510239" velocity="3.66"/>
    <dynamics damping="1.0" friction="1.0"/>
    <safety_controller k_position="20" k_velocity="20" soft_lower_limit="-0.241799387799" soft_upper_limit="2.07439510239"/>
  </joint>
  <link name="arm_left_3_link">
    <inertial>
      <origin rpy="0 0 0" xyz="0.00606 -0.0113 -0.05748"/>
      <mass value="1.64293"/>
      <!--<inertia ixx="0"  ixy="0"  ixz="0" iyy="0" iyz="0" izz="0" />-->
      <!-- NOTE: Assuming cylinder centered at CoM with r=0.05, h=0.05 with axis parallel to x coordinate -->
      <inertia ixx="0.00372686652" ixy="-0.00008722874" ixz="-0.00028800176" iyy="0.00344463026" iyz="0.00042776588" izz="0.00192229026"/>
    </inertial>
    <visual>
      <origin rpy="0 0 0" xyz="0 0 0"/>
      <geometry>
        <mesh filename="package://tutorial_iros2018/robots/reemc/meshes/arm/arm_3.dae" scale="1 1 1.0"/>
      </geometry>
      <material name="DarkGrey"/>
    </visual>
    <collision>
      <origin rpy="0 0 0" xyz="0 0 0"/>
      <geometry>
        <mesh filename="package://tutorial_iros2018/robots/reemc/meshes/arm/arm_3_collision.stl" scale="1 1 1.0"/>
      </geometry>
    </collision>
  </link>
  <joint name="arm_left_3_joint" type="revolute">
    <parent link="arm_left_2_link"/>
    <child link="arm_left_3_link"/>
    <origin rpy="-1.57079632679 0 0" xyz="0.02 -0.142 0"/>
    <axis xyz="0 0 1"/>
    <limit effort="17.86" lower="-2.35619449019" upper="2.74889357189" velocity="4.58"/>
    <dynamics damping="1.0" friction="1.0"/>
    <safety_controller k_position="20" k_velocity="20" soft_lower_limit="-2.33619449019" soft_upper_limit="2.72889357189"/>
  </joint>
  <!--************************-->
  <!--        ELBOW           -->
  <!--************************-->
  <link name="arm_left_4_link">
    <inertial>
      <origin rpy="0 0 0" xyz="-0.04129 0.0118 0.01387"/>
      <mass value="1.20222"/>
      <!--<inertia ixx="0"  ixy="0"  ixz="0" iyy="0" iyz="0" izz="0" />-->
      <!-- NOTE: Assuming cylinder centered at CoM with r=0.05, h=0.05 with axis parallel to x coordinate -->
      <!-- <inertia ixx="0.0012663"  ixy="0"  ixz="0" iyy="0.00084417" iyz="0" izz="0.00084417" /> -->
      <inertia ixx="0.00156355749" ixy="-0.000353141" ixz="0.00053402452" iyy="0.00277186194" iyz="-0.00015541973" izz="0.00307369106"/>
    </inertial>
    <visual>
      <origin rpy="0 0 0" xyz="0 0 0"/>
      <geometry>
        <mesh filename="package://tutorial_iros2018/robots/reemc/meshes/arm/arm_4.dae" scale="1 1 1.0"/>
      </geometry>
      <material name="DarkGrey"/>
    </visual>
    <collision>
      <origin rpy="0 0 0" xyz="0 0 0"/>
      <geometry>
        <mesh filename="package://tutorial_iros2018/robots/reemc/meshes/arm/arm_4_collision.stl" scale="1 1 1.0"/>
      </geometry>
    </collision>
  </link>
  <joint name="arm_left_4_joint" type="revolute">
    <parent link="arm_left_3_link"/>
    <child link="arm_left_4_link"/>
    <origin rpy="0 -1.57079632679 0" xyz="0 -0.02 -0.088"/>
    <axis xyz="0 0 1"/>
    <limit effort="17.86" lower="0" upper="2.26892802759" velocity="4.58"/>
    <dynamics damping="1.0" friction="1.0"/>
    <safety_controller k_position="20" k_velocity="20" soft_lower_limit="0.0" soft_upper_limit="2.24892802759"/>
  </joint>
  <gazebo reference="arm_left_1_link">
    <mu1>0.9</mu1>
    <mu2>0.9</mu2>
  </gazebo>
  <gazebo reference="arm_left_2_link">
    <mu1>0.9</mu1>
    <mu2>0.9</mu2>
  </gazebo>
  <gazebo reference="arm_left_3_link">
    <mu1>0.9</mu1>
    <mu2>0.9</mu2>
  </gazebo>
  <gazebo reference="arm_left_4_link">
    <mu1>0.9</mu1>
    <mu2>0.9</mu2>
  </gazebo>
  <gazebo reference="arm_left_1_joint">
    <implicitSpringDamper>1</implicitSpringDamper>
  </gazebo>
  <gazebo reference="arm_left_2_joint">
    <implicitSpringDamper>1</implicitSpringDamper>
  </gazebo>
  <gazebo reference="arm_left_3_joint">
    <implicitSpringDamper>1</implicitSpringDamper>
  </gazebo>
  <gazebo reference="arm_left_4_joint">
    <implicitSpringDamper>1</implicitSpringDamper>
  </gazebo>
  <!--************************-->
  <!--        WRIST           -->
  <!--************************-->
  <link name="arm_left_5_link">
    <inertial>
      <origin rpy="0 0 0" xyz="-0.00044 0.00012 -0.07445"/>
      <mass value="1.21524"/>
      <!-- <inertia ixx="0"  ixy="0"  ixz="0" iyy="0" iyz="0" izz="0" /> -->
      <!-- NOTE: Assuming cylinder centered at CoM with r=0.05, h=0.1 with axis parallel to z coordinate -->
      <!--         <inertia ixx="0.0027096"  ixy="0"  ixz="0" iyy="0.0027096" iyz="0" izz="0.0023225" /> -->
      <inertia ixx="0.00193499547" ixy="-0.00000027528" ixz="-0.00001268153" iyy="0.00177767506" iyz="-0.00000466638" izz="0.00057101196"/>
    </inertial>
    <visual>
      <origin rpy="0 0 0" xyz="0 0 0"/>
      <geometry>
        <mesh filename="package://tutorial_iros2018/robots/reemc/meshes/arm/arm_5.dae" scale="1 1 1.0"/>
      </geometry>
      <material name="LightGrey"/>
    </visual>
    <collision>
      <origin rpy="0 0 0" xyz="0 0 0"/>
      <geometry>
        <mesh filename="package://tutorial_iros2018/robots/reemc/meshes/arm/arm_5_collision.stl" scale="1 1 1.0"/>
      </geometry>
    </collision>
  </link>
  <joint name="arm_left_5_joint" type="revolute">
    <parent link="arm_left_4_link"/>
    <child link="arm_left_5_link"/>
    <origin rpy="0 1.57079632679 0" xyz="-0.088 0.02 0"/>
    <axis xyz="0 0 1"/>
    <limit effort="3" lower="-2.09439510239" upper="2.09439510239" velocity="1.95"/>
    <!--TODO: Check effort value!-->
    <dynamics damping="1.0" friction="1.0"/>
    <safety_controller k_position="20" k_velocity="20" soft_lower_limit="-2.07439510239" soft_upper_limit="2.07439510239"/>
  </joint>
  <link name="arm_left_6_link">
    <inertial>
      <origin rpy="0 0 0" xyz="-0.00005 -0.00252 -7e-05"/>
      <mass value="0.41597"/>
      <!-- <inertia ixx="0"  ixy="0"  ixz="0" iyy="0" iyz="0" izz="0" /> -->
      <!-- NOTE: Assuming cylinder centered at CoM with r=0.02, h=0.08 with axis parallel to z coordinate -->
      <!--         <inertia ixx="0.0001615"  ixy="0"  ixz="0" iyy="0.0001615" iyz="0" izz="0.000051" /> -->
      <inertia ixx="0.00020339659" ixy="-0.00000071703" ixz="-0.00000006654" iyy="0.00015240261" iyz="0.00000014315" izz="0.0001671881"/>
    </inertial>
    <visual>
      <origin rpy="0 0 0" xyz="0 0 0"/>
      <geometry>
        <mesh filename="package://tutorial_iros2018/robots/reemc/meshes/arm/arm_6.dae" scale="1 1 1.0"/>
      </geometry>
      <material name="LightGrey"/>
    </visual>
    <collision>
      <origin rpy="0 0 0" xyz="0 0 0"/>
      <geometry>
        <cylinder length="0.0385" radius="0.04"/>
      </geometry>
    </collision>
  </link>
  <joint name="arm_left_6_joint" type="revolute">
    <parent link="arm_left_5_link"/>
    <child link="arm_left_6_link"/>
    <origin rpy="1.57079632679 0 0" xyz="0 0 -0.15"/>
    <axis xyz="0 0 1"/>
    <limit effort="6.6" lower="-1.57079632679" upper="1.57079632679" velocity="1.76"/>
    <dynamics damping="1.0" friction="1.0"/>
    <safety_controller k_position="20" k_velocity="20" soft_lower_limit="-1.55079632679" soft_upper_limit="1.55079632679"/>
  </joint>
  <link name="arm_left_7_link">
    <inertial>
      <!--TODO: Verify these inertial parameters-->
      <origin rpy="0 0 0" xyz="-0.00004 0 0.02887"/>
      <mass value="0.06697"/>
      <!-- <inertia ixx="0"  ixy="0"  ixz="0" iyy="0" iyz="0" izz="0" /> -->
      <!-- NOTE: Assuming point mass -->
      <!--         <inertia ixx="0"  ixy="0"  ixz="0" iyy="0" iyz="0" izz="0" /> -->
      <inertia ixx="0.0000123718" ixy="0.00000000002" ixz="0.00000002403" iyy="0.00001242132" iyz="0.00000000001" izz="0.0000059514"/>
    </inertial>
    <visual>
      <origin rpy="0 0 0" xyz="0 0 -0.046"/>
      <geometry>
        <cylinder length="0.005" radius="0.02"/>
      </geometry>
      <material name="DarkGrey"/>
    </visual>
    <collision>
      <origin rpy="0 0 0" xyz="0 0 -0.0345"/>
      <geometry>
        <cylinder length="0.023" radius="0.02"/>
      </geometry>
    </collision>
  </link>
  <joint name="arm_left_7_joint" type="revolute">
    <parent link="arm_left_6_link"/>
    <child link="arm_left_7_link"/>
    <origin rpy="-1.57079632679 0 0" xyz="0 0 0"/>
    <axis xyz="0 0 1"/>
    <limit effort="6.6" lower="-2.09439510239" upper="2.09439510239" velocity="1.76"/>
    <dynamics damping="1.0" friction="1.0"/>
    <safety_controller k_position="20" k_velocity="20" soft_lower_limit="-2.07439510239" soft_upper_limit="2.07439510239"/>
  </joint>
  <gazebo reference="arm_left_5_link">
    <mu1>0.9</mu1>
    <mu2>0.9</mu2>
  </gazebo>
  <gazebo reference="arm_left_6_link">
    <mu1>0.9</mu1>
    <mu2>0.9</mu2>
  </gazebo>
  <gazebo reference="arm_left_7_link">
    <mu1>0.9</mu1>
    <mu2>0.9</mu2>
  </gazebo>
  <gazebo reference="arm_left_5_joint">
    <implicitSpringDamper>1</implicitSpringDamper>
  </gazebo>
  <gazebo reference="arm_left_6_joint">
    <implicitSpringDamper>1</implicitSpringDamper>
  </gazebo>
  <gazebo reference="arm_left_7_joint">
    <implicitSpringDamper>1</implicitSpringDamper>
    <provideFeedback>1</provideFeedback>
  </gazebo>
  <!--***********************-->
  <!--        TOOL           -->
  <!--***********************-->
  <link name="arm_left_tool_link">
    <inertial>
      <mass value="0.1"/>
      <inertia ixx="0.0" ixy="0.0" ixz="0.0" iyy="0.0" iyz="0.0" izz="0.0"/>
    </inertial>
    <visual>
      <origin rpy="0 1.57079632679 0" xyz="0.001 0 0"/>
      <geometry>
        <cylinder length="0.005" radius="0.005"/>
      </geometry>
      <material name="LightGrey"/>
    </visual>
    <collision>
      <origin rpy="0 1.57079632679 0" xyz="0.001 0 0"/>
      <geometry>
        <cylinder length="0.005" radius="0.005"/>
      </geometry>
    </collision>
  </link>
  <joint name="arm_left_tool_joint" type="fixed">
    <parent link="arm_left_7_link"/>
    <child link="arm_left_tool_link"/>
    <origin rpy="1.57079632679 1.57079632679 0" xyz="0 0 -0.046"/>
  </joint>
  <!-- Palm -->
  <joint name="hand_right_palm_joint" type="fixed">
    <parent link="arm_right_tool_link"/>
    <child link="hand_right_palm_link"/>
    <origin rpy="1.57 0 0" xyz="0 0 0"/>
  </joint>
  <link name="hand_right_palm_link">
    <inertial>
      <origin rpy="0 0 0" xyz="0.1 0 0"/>
      <mass value="0.68275"/>
      <inertia ixx="0.00045643484" ixy="0.00001885321" ixz="-0.0000103596" iyy="0.00076077407" iyz="-0.00000266311" izz="0.00052521525"/>
    </inertial>
    <visual>
      <origin rpy="0 0 0" xyz="0.1 0 0"/>
      <geometry>
        <box size="0.2 0.1 0.025"/>
      </geometry>
    </visual>
    <collision>
      <origin rpy="0 0 0" xyz="0.1 0 0"/>
      <geometry>
        <box size="0.2 0.1 0.025"/>
      </geometry>
    </collision>
  </link>
  <joint name="hand_right_end_effector_joint" type="fixed">
    <parent link="hand_right_palm_link"/>
    <child link="hand_right_end_effector_link"/>
    <origin rpy="0 0 0" xyz="0.1 0 -0.0125"/>
  </joint>
  <link name="hand_right_end_effector_link">
    <inertial>
      <origin rpy="0 0 0" xyz="0 0 0"/>
      <mass value="0"/>
      <inertia ixx="0" ixy="0" ixz="0" iyy="0" iyz="0" izz="0"/>
    </inertial>
  </link>
  <gazebo reference="hand_right_palm_link">
    <kp>1000000.0</kp>
    <kd>100.0</kd>
    <mu1>1.0</mu1>
    <mu2>1.0</mu2>
    <fdir1>0 0 1</fdir1>
    <maxVel>1.0</maxVel>
    <minDepth>0.00</minDepth>
  </gazebo>
  <!-- Palm -->
  <joint name="hand_left_palm_joint" type="fixed">
    <parent link="arm_left_tool_link"/>
    <child link="hand_left_palm_link"/>
    <origin rpy="-1.57 0 0" xyz="0 0 0"/>
  </joint>
  <link name="hand_left_palm_link">
    <inertial>
      <origin rpy="0 0 0" xyz="0.1 0 0"/>
      <mass value="0.68275"/>
      <inertia ixx="0.00045643484" ixy="0.00001885321" ixz="-0.0000103596" iyy="0.00076077407" iyz="-0.00000266311" izz="0.00052521525"/>
    </inertial>
    <visual>
      <origin rpy="0 0 0" xyz="0.1 0 0"/>
      <geometry>
        <box size="0.2 0.1 0.025"/>
      </geometry>
    </visual>
    <collision>
      <origin rpy="0 0 0" xyz="0.1 0 0"/>
      <geometry>
        <box size="0.2 0.1 0.025"/>
      </geometry>
    </collision>
  </link>
  <joint name="hand_left_end_effector_joint" type="fixed">
    <parent link="hand_left_palm_link"/>
    <child link="hand_left_end_effector_link"/>
    <origin rpy="0 0 0" xyz="0.1 0 -0.0125"/>
  </joint>
  <link name="hand_left_end_effector_link">
    <inertial>
      <origin rpy="0 0 0" xyz="0 0 0"/>
      <mass value="0"/>
      <inertia ixx="0" ixy="0" ixz="0" iyy="0" iyz="0" izz="0"/>
    </inertial>
  </link>
  <gazebo reference="hand_left_palm_link">
    <kp>1000000.0</kp>
    <kd>100.0</kd>
    <mu1>1.0</mu1>
    <mu2>1.0</mu2>
    <fdir1>0 0 1</fdir1>
    <maxVel>1.0</maxVel>
    <minDepth>0.00</minDepth>
  </gazebo>
  <joint name="stereo_frame_joint" type="fixed">
    <origin rpy="1.56293 -0.00855922 -0.0201307" xyz="0.08203  -0.0935  0.0365"/>
    <parent link="head_2_link"/>
    <child link="stereo_link"/>
  </joint>
  <!-- camera link is at center of the optical frame, but in x-forward, z-upwards and y-leftwards notation (required by gazebo to simulate a camera) -->
  <link name="stereo_link">
    <inertial>
      <mass value="0.01"/>
      <origin rpy="0 0 0" xyz="0 0 0"/>
      <inertia ixx="0" ixy="0" ixz="0" iyy="0" iyz="0" izz="0"/>
      <!-- this inertia is made up for now. -->
    </inertial>
    <visual>
      <origin rpy="0 0 0" xyz="0 0 0"/>
      <geometry>
        <box size="0.001 0.001 0.001"/>
      </geometry>
      <material name="Blue"/>
    </visual>
    <collision>
      <origin rpy="0 0 0" xyz="0 0 0"/>
      <geometry>
        <box size="0.001 0.001 0.001"/>
      </geometry>
    </collision>
  </link>
  <!-- attach optical frame to the camera link -->
  <joint name="stereo_optical_frame_joint" type="fixed">
    <origin rpy="-1.57079632679 0.0 -1.57079632679" xyz="0 0 0"/>
    <!-- rotate frame from x-forward to z-forward camera coords -->
    <parent link="stereo_link"/>
    <child link="stereo_optical_frame"/>
  </joint>
  <!-- optical frame for the stereo camera, with z-forward notation, this is the frame stereo camera images users should refer to -->
  <link name="stereo_optical_frame" type="camera">
    <inertial>
      <mass value="0.01"/>
      <origin rpy="0 0 0" xyz="0 0 0"/>
      <inertia ixx="0" ixy="0" ixz="0" iyy="0" iyz="0" izz="0"/>
      <!-- this inertia is made up for now. -->
    </inertial>
  </link>
  <joint name="stereo_gazebo_left_camera_frame_joint" type="fixed">
    <origin rpy="0.0 0.0 0.0" xyz="0 0 0"/>
    <parent link="stereo_link"/>
    <child link="stereo_gazebo_left_camera_link"/>
  </joint>
  <link name="stereo_gazebo_left_camera_link">
    <inertial>
      <mass value="0.1"/>
      <origin xyz="0 0 0"/>
      <inertia ixx="0" ixy="0.0" ixz="0.0" iyy="0" iyz="0.0" izz="0"/>
    </inertial>
    <visual>
      <origin rpy="0 1.57079632679 0" xyz="-0.01 0 0"/>
      <geometry>
        <cylinder length="0.018" radius="0.01"/>
      </geometry>
      <material name="Blue"/>
    </visual>
  </link>
  <joint name="stereo_gazebo_right_camera_frame_joint" type="fixed">
    <origin rpy="0.0 0.0 0.0" xyz="0.0 -0.073 0.0"/>
    <parent link="stereo_link"/>
    <child link="stereo_gazebo_right_camera_link"/>
  </joint>
  <link name="stereo_gazebo_right_camera_link">
    <inertial>
      <mass value="0.1"/>
      <origin xyz="0 0 0"/>
      <inertia ixx="0" ixy="0.0" ixz="0.0" iyy="0" iyz="0.0" izz="0"/>
    </inertial>
    <visual>
      <origin rpy="0 1.57079632679 0" xyz="-0.01 0 0"/>
      <geometry>
        <cylinder length="0.018" radius="0.01"/>
      </geometry>
      <material name="Blue"/>
    </visual>
  </link>
  <joint name="back_camera_frame_joint" type="fixed">
    <origin rpy="-1.57079632679 0 3.14159265359" xyz="-0.128 -0.317 0"/>
    <parent link="torso_2_link"/>
    <child link="back_camera_link"/>
  </joint>
  <!-- camera link is at center of the optical frame, but in x-forward, z-upwards and y-leftwards notation (required by gazebo to simulate a camera) -->
  <link name="back_camera_link">
    <inertial>
      <mass value="0.05"/>
      <origin rpy="0 0 0" xyz="0 0 0"/>
      <inertia ixx="0.01" ixy="0" ixz="0" iyy="0.01" iyz="0" izz="0.01"/>
      <!-- this inertia is made up for now. -->
    </inertial>
    <visual>
      <origin rpy="0 0 0" xyz="0 0 0"/>
      <geometry>
        <box size="0.001 0.001 0.001"/>
      </geometry>
    </visual>
    <collision>
      <origin rpy="0 0 0" xyz="0 0 0"/>
      <geometry>
        <box size="0.001 0.001 0.001"/>
      </geometry>
    </collision>
  </link>
  <!-- attach optical frame to the camera link -->
  <joint name="back_camera_optical_frame_joint" type="fixed">
    <origin rpy="-1.57079632679 0.0 -1.57079632679" xyz="0 0 0"/>
    <!-- rotate frame from x-forward to z-forward camera coords -->
    <parent link="back_camera_link"/>
    <child link="back_camera_optical_frame"/>
  </joint>
  <!-- optical frame for the back camera, with z-forward notation, this is the frame back camera images users should refer to -->
  <link name="back_camera_optical_frame" type="camera">
    <inertial>
      <mass value="0.05"/>
      <inertia ixx="0" ixy="0" ixz="0" iyy="0" iyz="0" izz="0"/>
    </inertial>
  </link>
  <joint name="back_camera_gazebo_back_camera_frame_joint" type="fixed">
    <origin rpy="0.0 0.0 0.0" xyz="0 0 0"/>
    <parent link="back_camera_link"/>
    <child link="back_camera_gazebo_back_camera_link"/>
  </joint>
  <link name="back_camera_gazebo_back_camera_link">
    <inertial>
      <mass value="0.1"/>
      <origin xyz="0 0 0"/>
      <inertia ixx="0" ixy="0.0" ixz="0.0" iyy="0" iyz="0.0" izz="0"/>
    </inertial>
    <visual>
      <origin rpy="0 1.57079632679 0" xyz="-0.01 0 0"/>
      <geometry>
        <cylinder length="0.02" radius="0.01"/>
      </geometry>
      <material name="Blue"/>
    </visual>
  </link>
  <link name="imu_link">
    <inertial>
      <mass value="0.01"/>
      <origin xyz="0 0 0"/>
      <inertia ixx="0.000001" ixy="0" ixz="0" iyy="0.000001" iyz="0" izz="0.000001"/>
    </inertial>
    <visual>
      <origin rpy="0 0 0" xyz="0 0 0"/>
      <geometry>
        <box size="0.01 0.01 0.01"/>
      </geometry>
    </visual>
  </link>
  <joint name="imu_joint" type="fixed">
    <origin rpy="3.14159265359 0 0" xyz="0 0 0"/>
    <parent link="base_link"/>
    <child link="imu_link"/>
  </joint>
  <gazebo>
    <plugin name="xbot_plugin_handler" filename="libGazeboXBotPlugin.so"/>
  </gazebo>
</robot>
